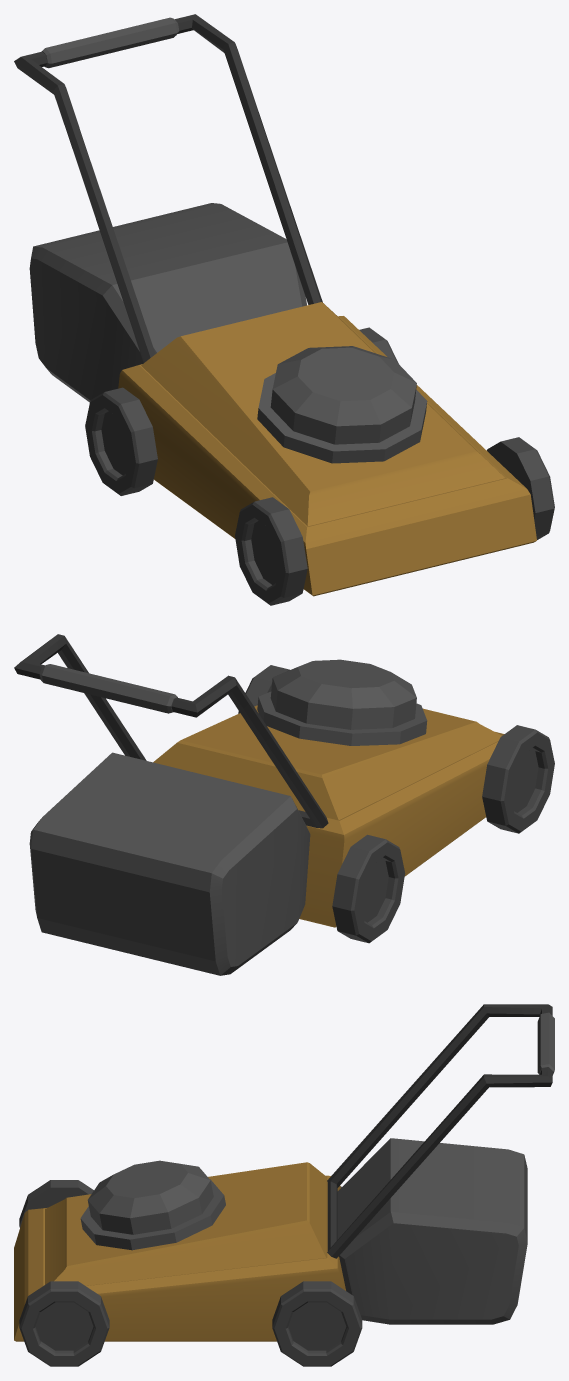
File: lawn mower_a001.glb
3 views of the same model, one above another, from view 1: azimuth 30°, elevation 25°; view 2: azimuth 150°, elevation 25°; view 3: azimuth 270°, elevation 25° (orthographic). The views are drawn at different scales.
Visible parts, largest first — view 1: lawn mower_a001; view 2: lawn mower_a001; view 3: lawn mower_a001.
Boxes of the visible parts, bbox=[...] form: lawn mower_a001: bbox=[14, 14, 554, 605]; lawn mower_a001: bbox=[14, 634, 554, 975]; lawn mower_a001: bbox=[14, 1004, 554, 1366].
Size of the model in its own units: 0.6098 by 0.7024 by 1.26.
Materials: 1 (1 with a texture image).
